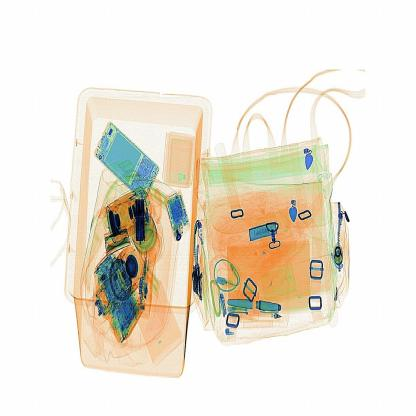scissors: (131, 193, 151, 252)
